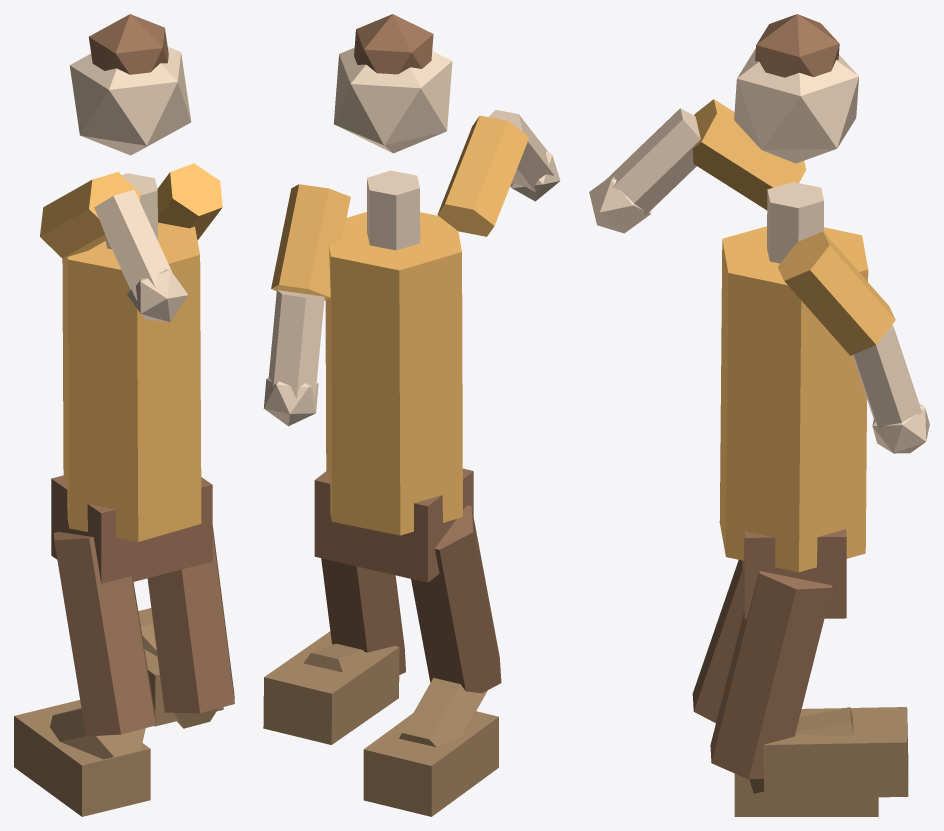
File: pose_attack_1_12.glb
3 views of the same model, side by side, from view 1: azimuth 30°, elevation 25°; view 2: azimuth 150°, elevation 25°; view 3: azimuth 270°, elevation 25° (orthographic). The views are drawn at different scales.
Visible parts, largest first — view 1: pose; view 2: pose; view 3: pose.
Part boxes in pixels (x1,y1,x2,y2): pose: (14,14,234,816); pose: (263,14,560,816); pose: (589,14,929,816).
Size of the model in its own units: 0.3929 by 1.49 by 0.5682.
